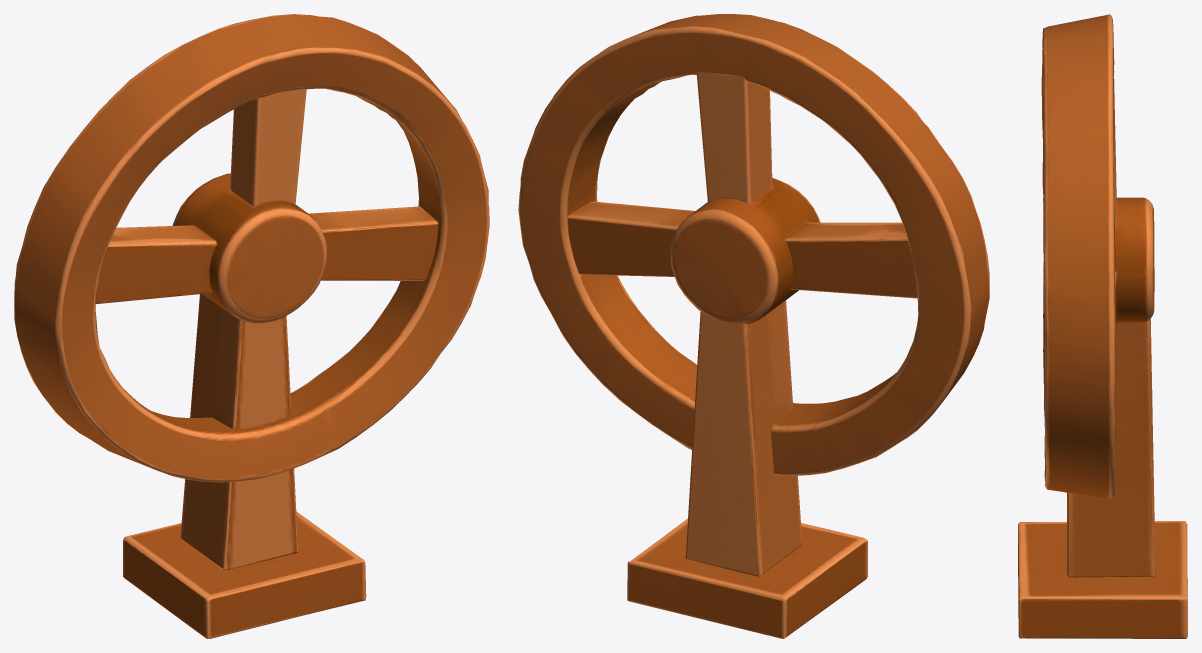
Rendered from steeringWheel.glb.
3 renders of one model, left to right at view 1: azimuth 30°, elevation 25°; view 2: azimuth 150°, elevation 25°; view 3: azimuth 270°, elevation 25°, orthographic.
Size of the model in its own units: 0.8477 by 1 by 0.2744.
1 material, 1 textured.
